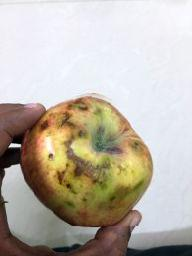Apple Semirotten: (25, 90, 157, 226)
